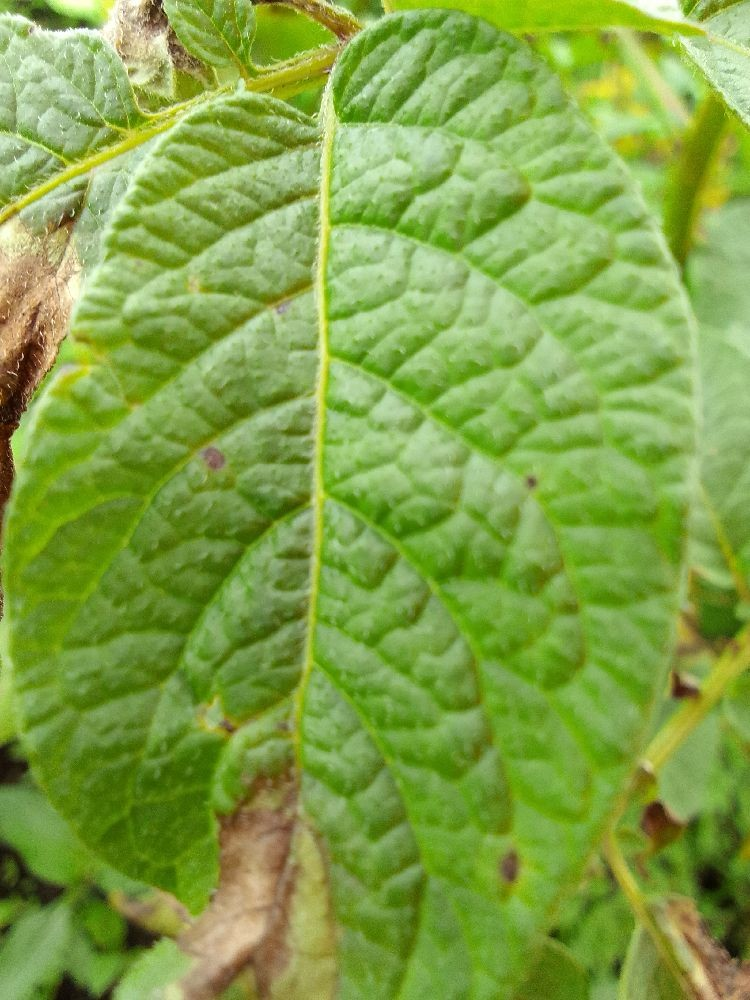late_blight: (95, 742, 356, 999), (0, 142, 129, 576), (637, 867, 750, 1000), (106, 0, 215, 86)
